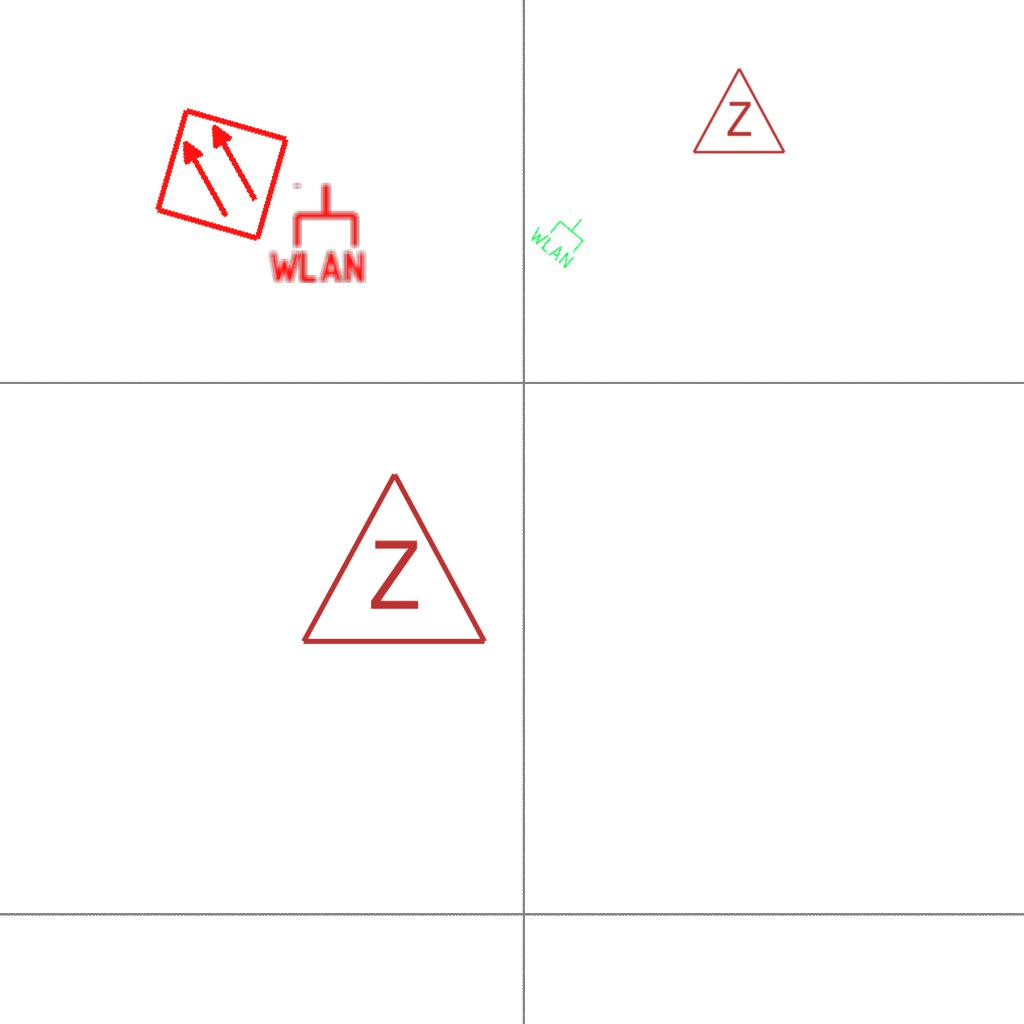RMO_Rauchmelder_optischer: (151, 104, 292, 245)
WLAN: (265, 180, 369, 285), (525, 198, 599, 272)
Zimmersignalleuchte: (294, 459, 490, 659), (689, 61, 787, 161)
